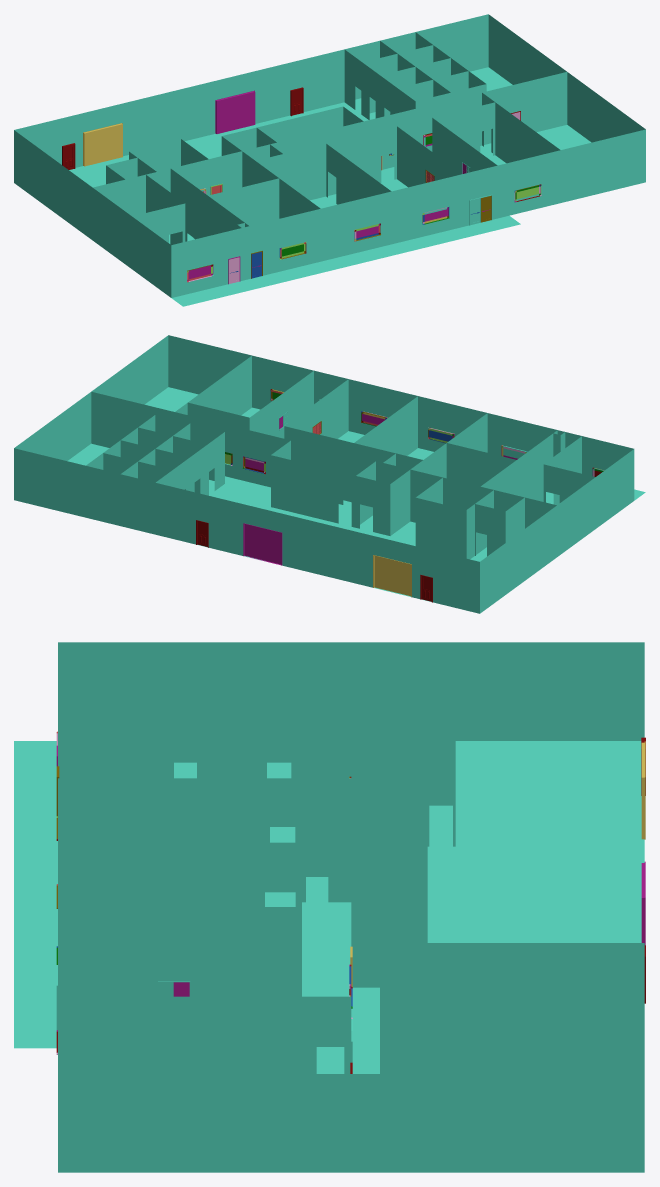
The picture shows the model from 3 angles, top to bottom: view 1: azimuth 30°, elevation 25°; view 2: azimuth 150°, elevation 25°; view 3: azimuth 270°, elevation 25°; orthographic projection. The views are drawn at different scales.
Visible parts, largest first — view 1: Layer0_001, Door_Garage_Single_001, Door_Garage_Single_002; view 2: Layer0_001, Door_Garage_Single_001, Door_Garage_Single_002; view 3: Layer0_001.
Part boxes in pixels (left/top/right/bottom): Layer0_001: left=14, top=14, right=645, bottom=306; Door_Garage_Single_001: left=215, top=90, right=255, bottom=133; Door_Garage_Single_002: left=83, top=123, right=122, bottom=166; Layer0_001: left=14, top=335, right=645, bottom=613; Door_Garage_Single_001: left=243, top=523, right=282, bottom=565; Door_Garage_Single_002: left=373, top=555, right=411, bottom=597; Layer0_001: left=14, top=642, right=644, bottom=1172.
Size of the model in its own units: 42959 by 4580 by 26575.
